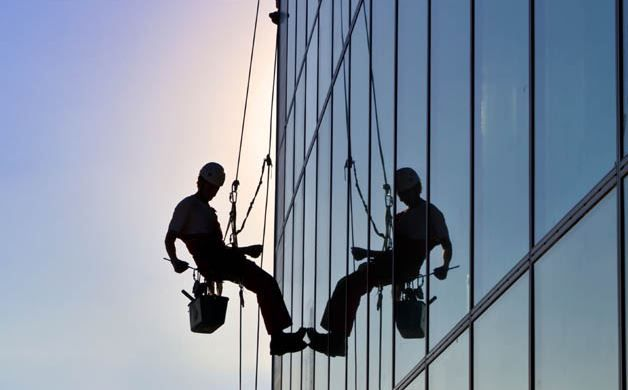hardhat: (191, 157, 228, 192)
person: (166, 134, 297, 371)
